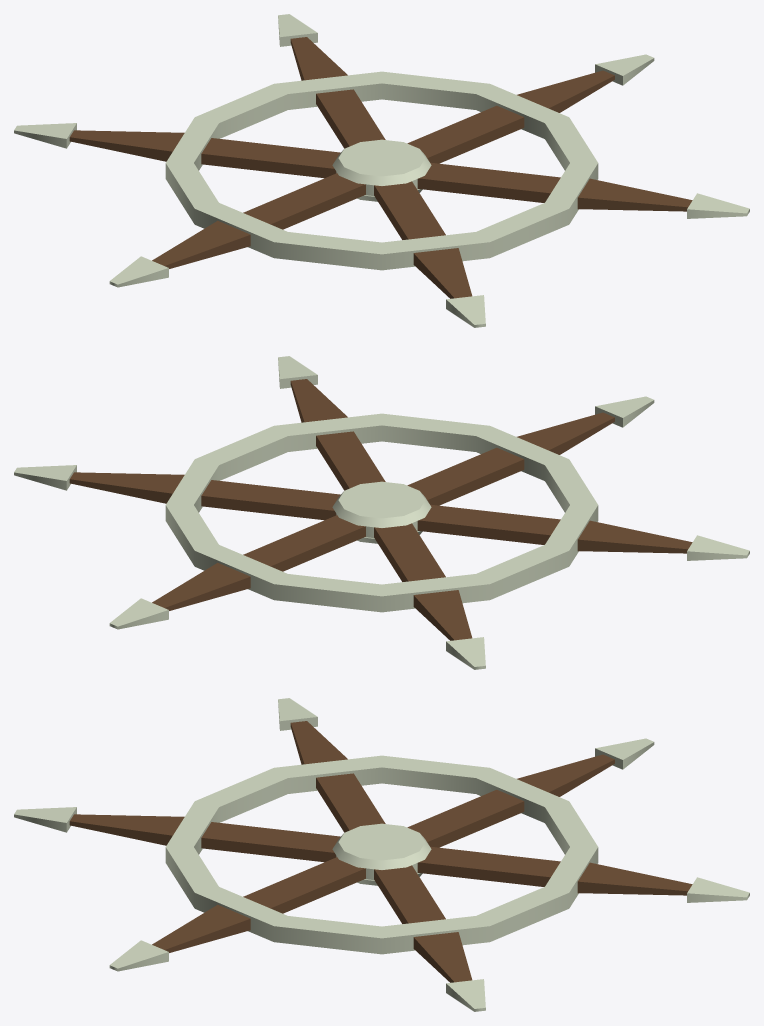
The model's file is wheelMesh0.fbx.
3 views of the same model, one above another, from view 1: azimuth 30°, elevation 25°; view 2: azimuth 150°, elevation 25°; view 3: azimuth 270°, elevation 25° (orthographic).
Parts seen in each view (by area): view 1: Plane.010, Plane.009; view 2: Plane.010, Plane.009; view 3: Plane.010, Plane.009.
Part boxes in pixels (left/top/right/bottom): Plane.010: left=14, top=14, right=749, bottom=327; Plane.009: left=201, top=89, right=560, bottom=239; Plane.010: left=14, top=356, right=749, bottom=669; Plane.009: left=201, top=431, right=560, bottom=581; Plane.010: left=14, top=698, right=749, bottom=1011; Plane.009: left=201, top=773, right=560, bottom=923.
Size of the model in its own units: 1731 by 67.11 by 1731.
